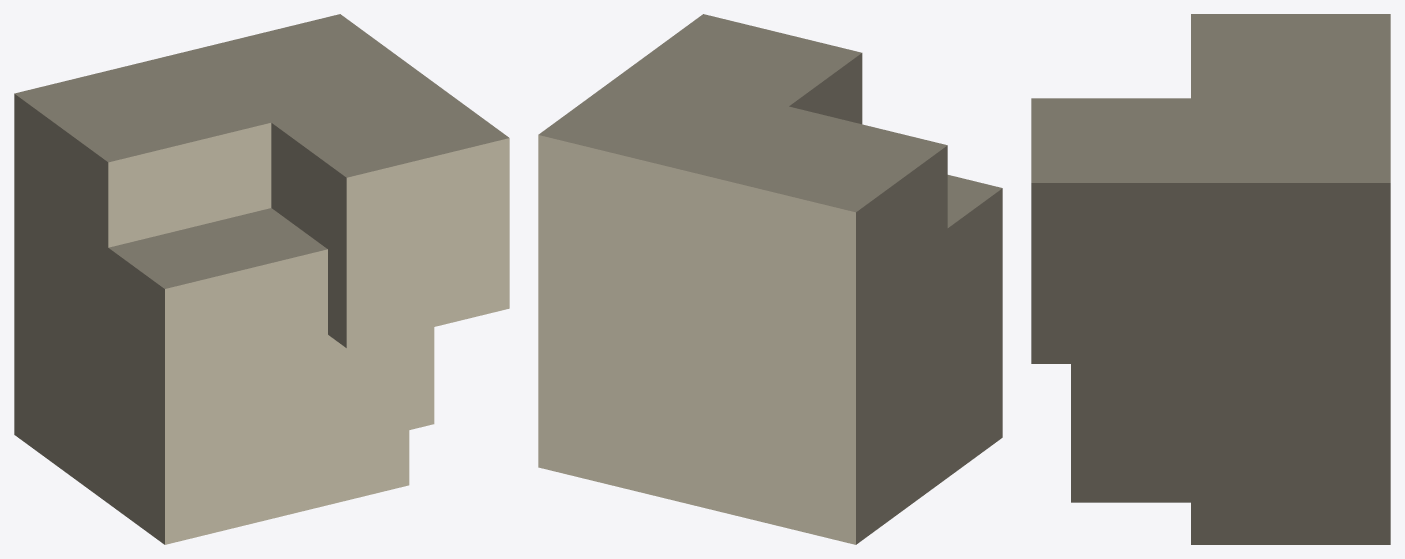
The model's file is step_0.glb.
The picture shows the model from 3 angles, left to right: view 1: azimuth 30°, elevation 25°; view 2: azimuth 150°, elevation 25°; view 3: azimuth 270°, elevation 25°; orthographic projection. The views are drawn at different scales.
Parts seen in each view (by area): view 1: stone.small.2; view 2: stone.small.2; view 3: stone.small.2.
Part boxes in pixels (bbox=[...]): stone.small.2: bbox=[14, 14, 509, 544]; stone.small.2: bbox=[538, 14, 1002, 544]; stone.small.2: bbox=[1031, 14, 1390, 544].
Size of the model in its own units: 1 by 1 by 0.9.
